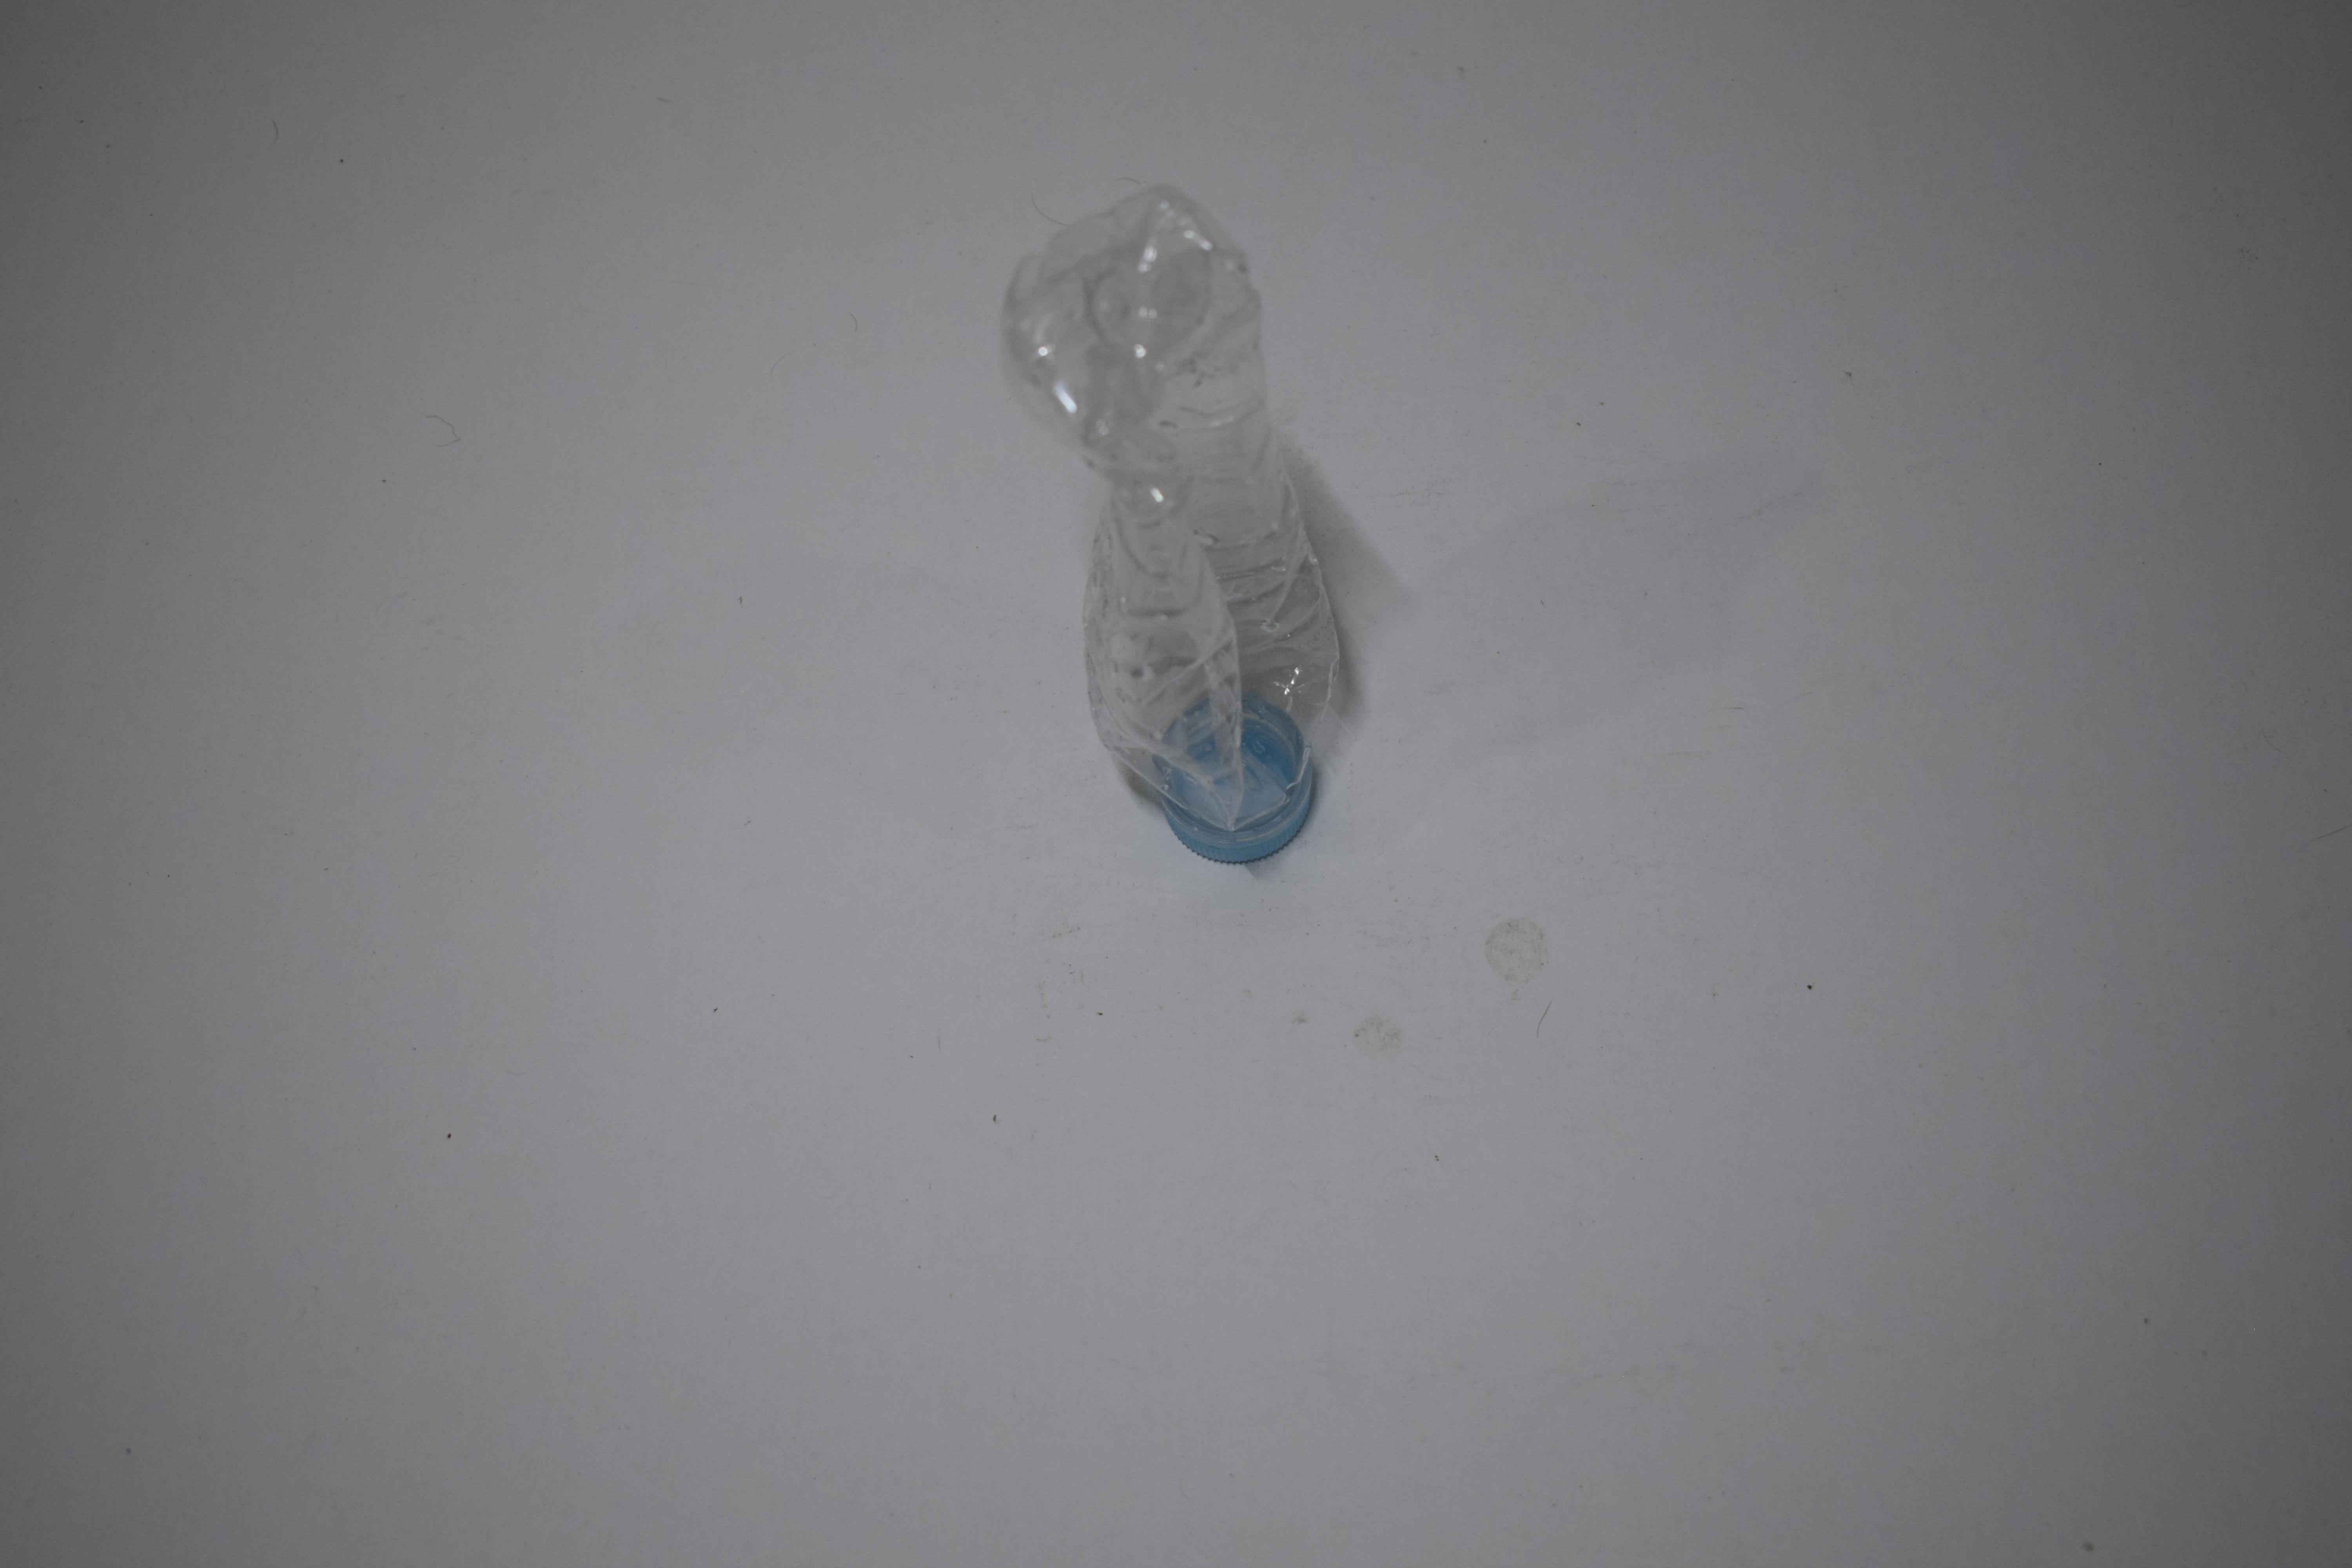bottle: (1057, 203, 1292, 831)
